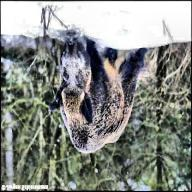boar: (43, 37, 162, 167)
